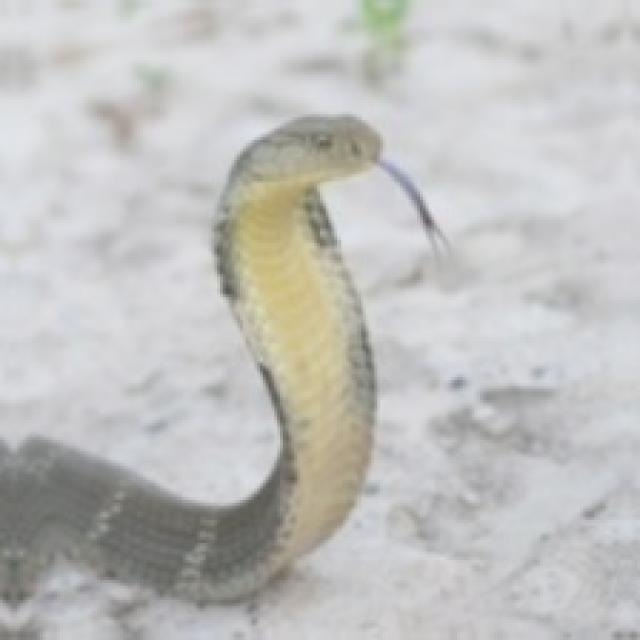king cobra: (0, 114, 446, 600)
